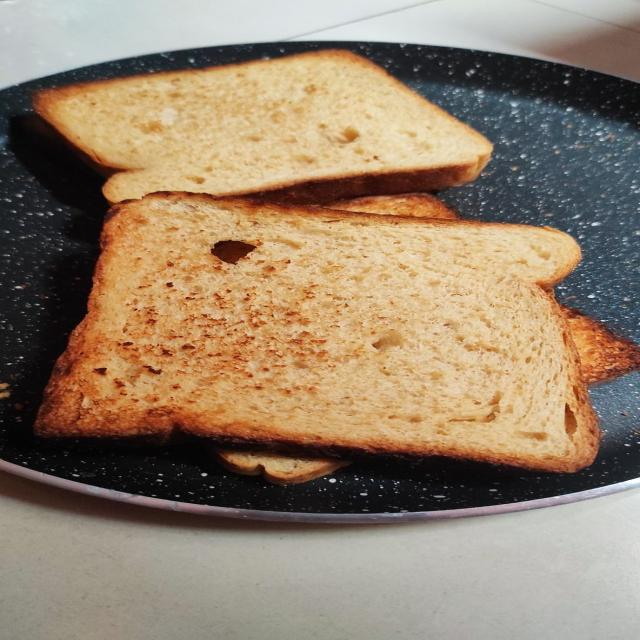toast bread: (34, 192, 598, 472), (33, 50, 491, 204), (561, 304, 639, 384), (214, 447, 350, 484), (325, 193, 457, 219), (334, 193, 457, 219)
